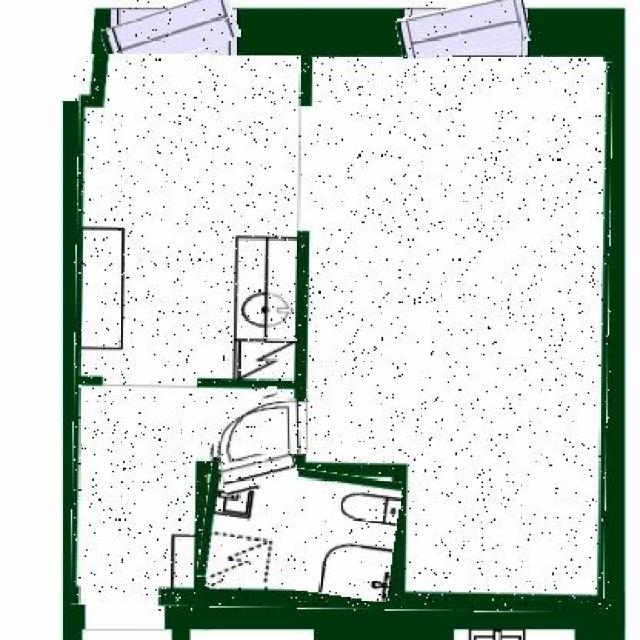door: (211, 391, 294, 492), (225, 398, 308, 454)
window: (101, 0, 237, 65), (396, 0, 529, 58)
zone: (74, 55, 611, 611), (200, 463, 398, 595)
